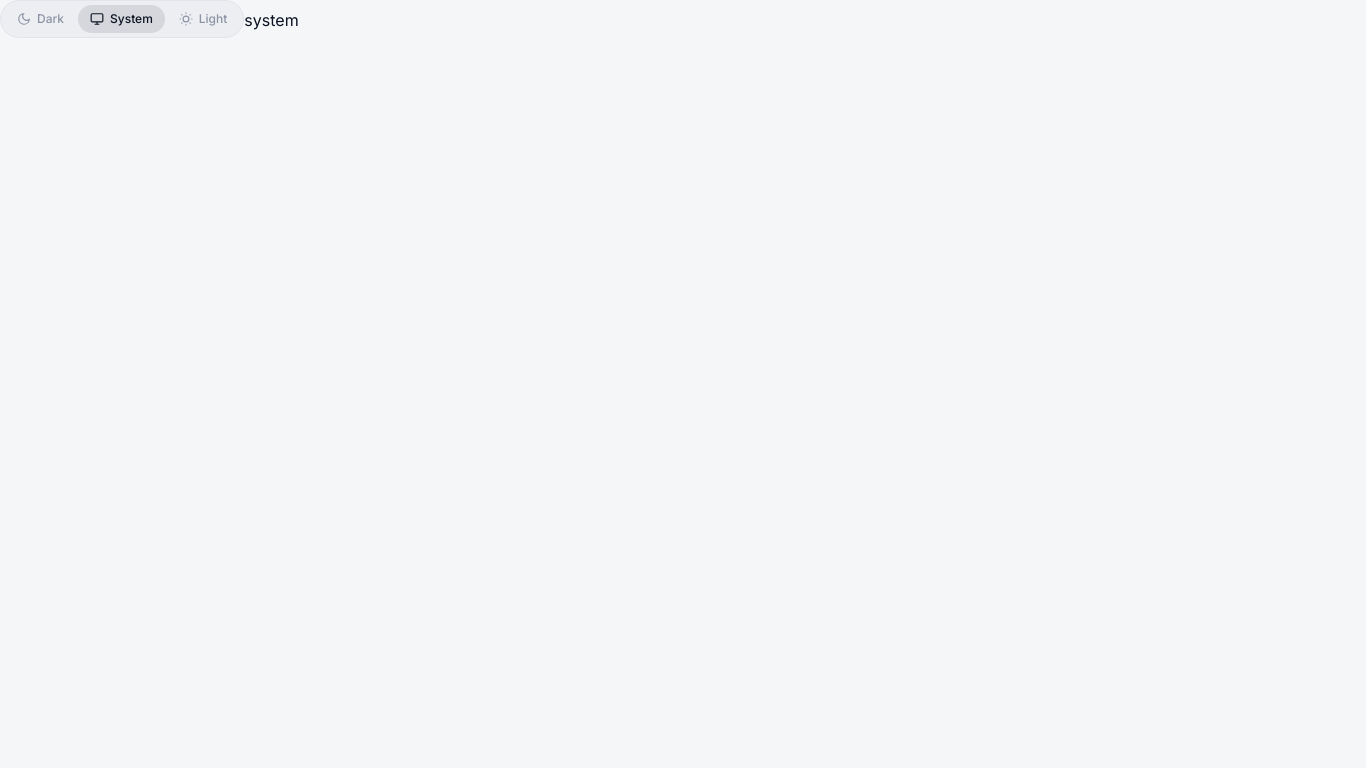
it: ThemeProvider + ThemeSwitcher › switches to dark and persists the choice
The image size is (1366, 768).
Click the button with aria-label "Switch to Dark theme" at (40, 19), box [5,5,76,33]
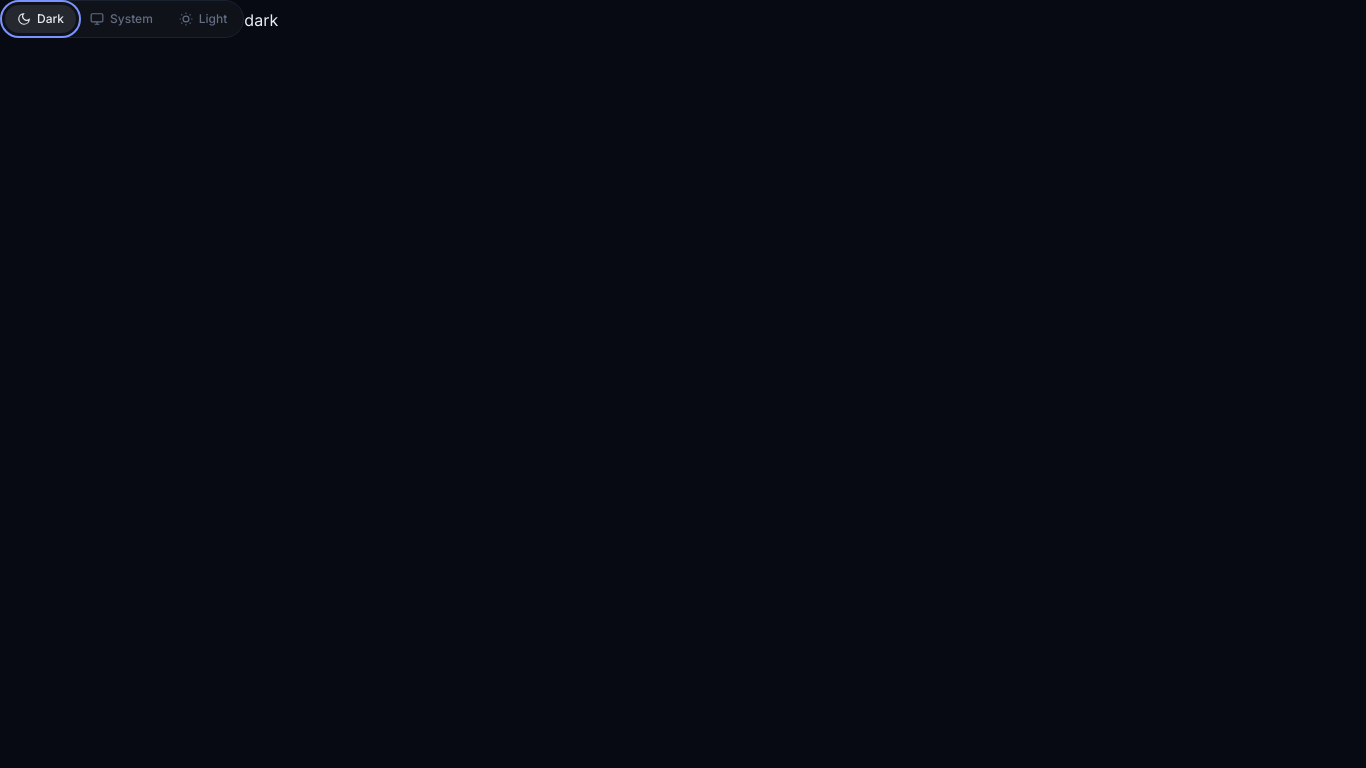
Now the text "dark" is shown, box [244,10,278,30]
